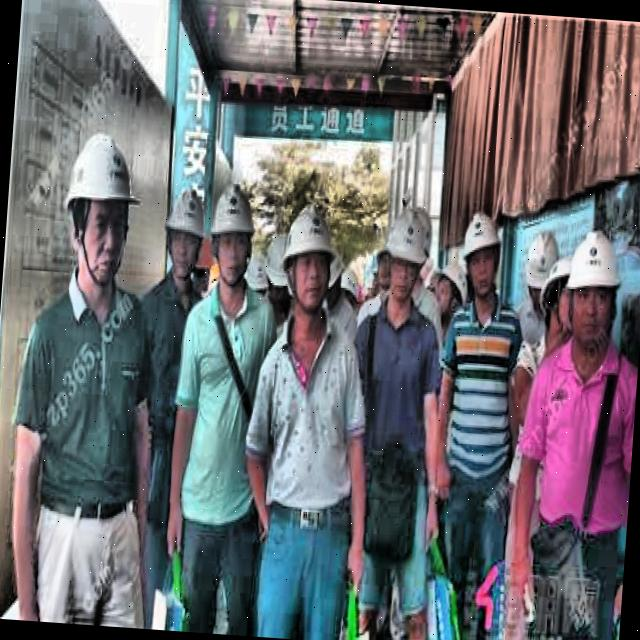helmet: (57, 125, 143, 292), (554, 226, 626, 358), (274, 202, 341, 310), (376, 194, 433, 312), (205, 171, 258, 287), (456, 200, 507, 302), (166, 175, 207, 288), (536, 254, 578, 346), (521, 238, 560, 320), (262, 227, 296, 316), (432, 260, 472, 326)
